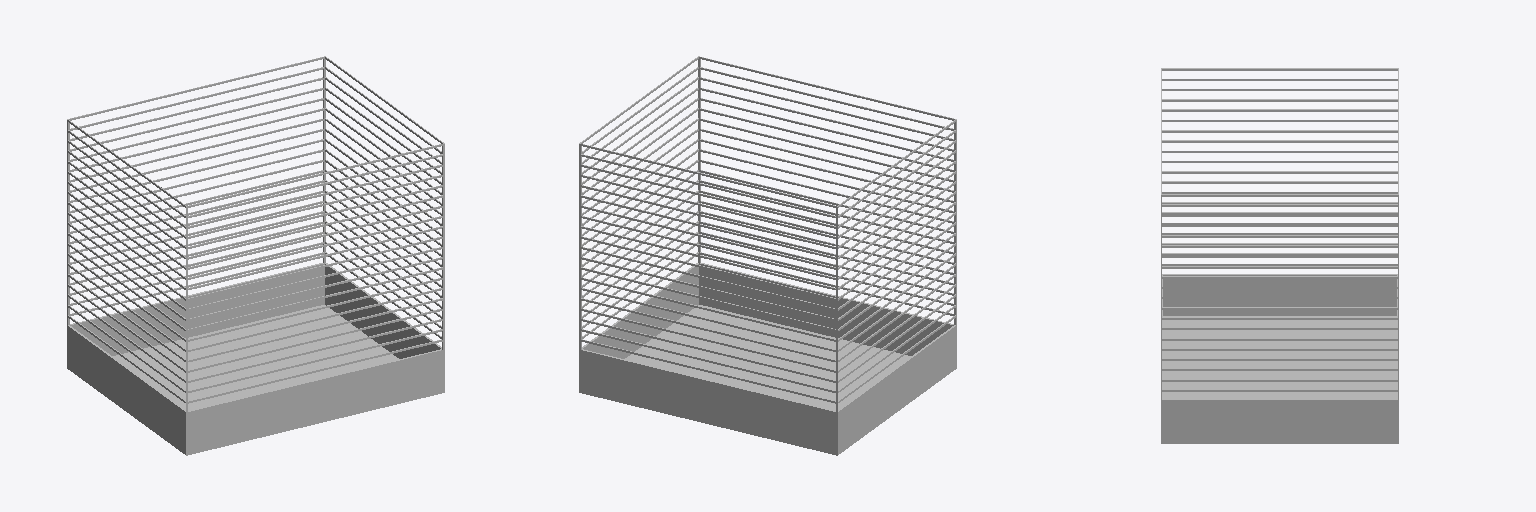
Rendered from new_cage.obj.
The picture shows the model from 3 angles: view 1: azimuth 30°, elevation 25°; view 2: azimuth 150°, elevation 25°; view 3: azimuth 270°, elevation 25°; orthographic projection.
Visible parts, largest first — view 1: Solid1; view 2: Solid1; view 3: Solid1.
Part boxes in pixels (x1,y1,x2,y2): Solid1: (67,56,444,455); Solid1: (579,56,956,455); Solid1: (1161,68,1398,443).
Bounding box in the file's own units: 500 × 460 × 400.